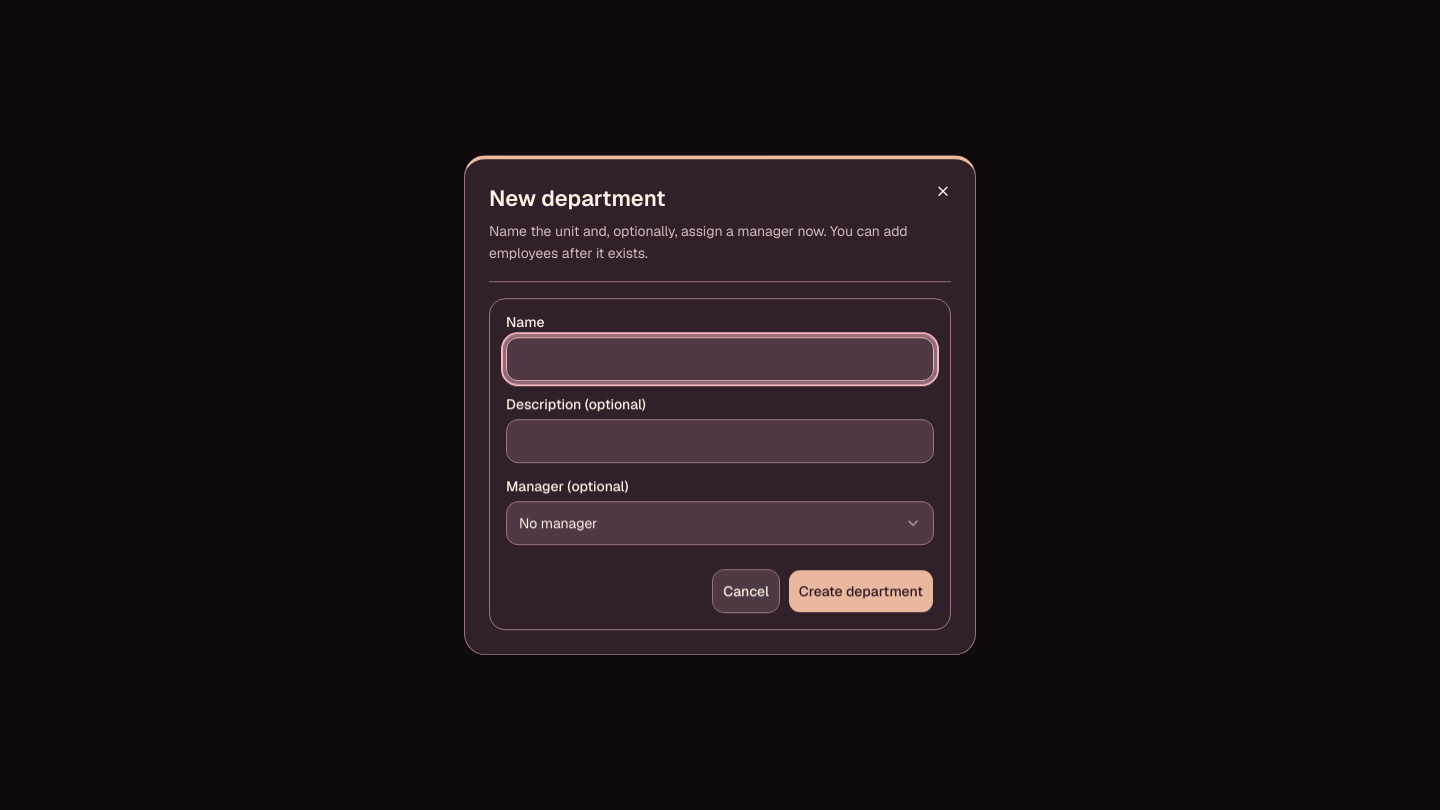
Scenario: CreateDepartmentDialog › shows a name-conflict error and keeps the typed value
Step 1. Type "Marketing" into the field labelled "Name" → (720, 359), box [506,337,934,381]
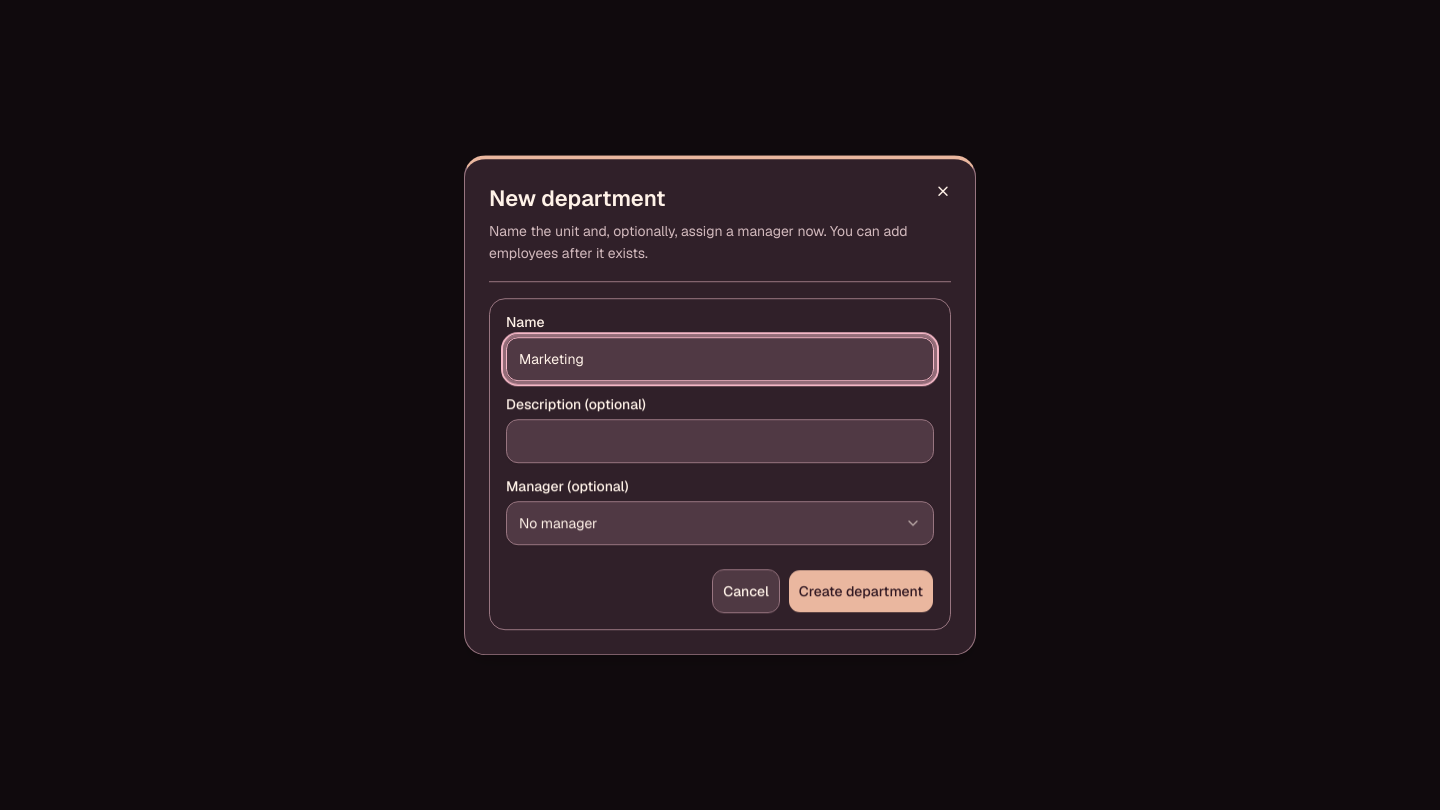
Step 2. Click the button "Create department" → (861, 591), box [788,569,934,613]
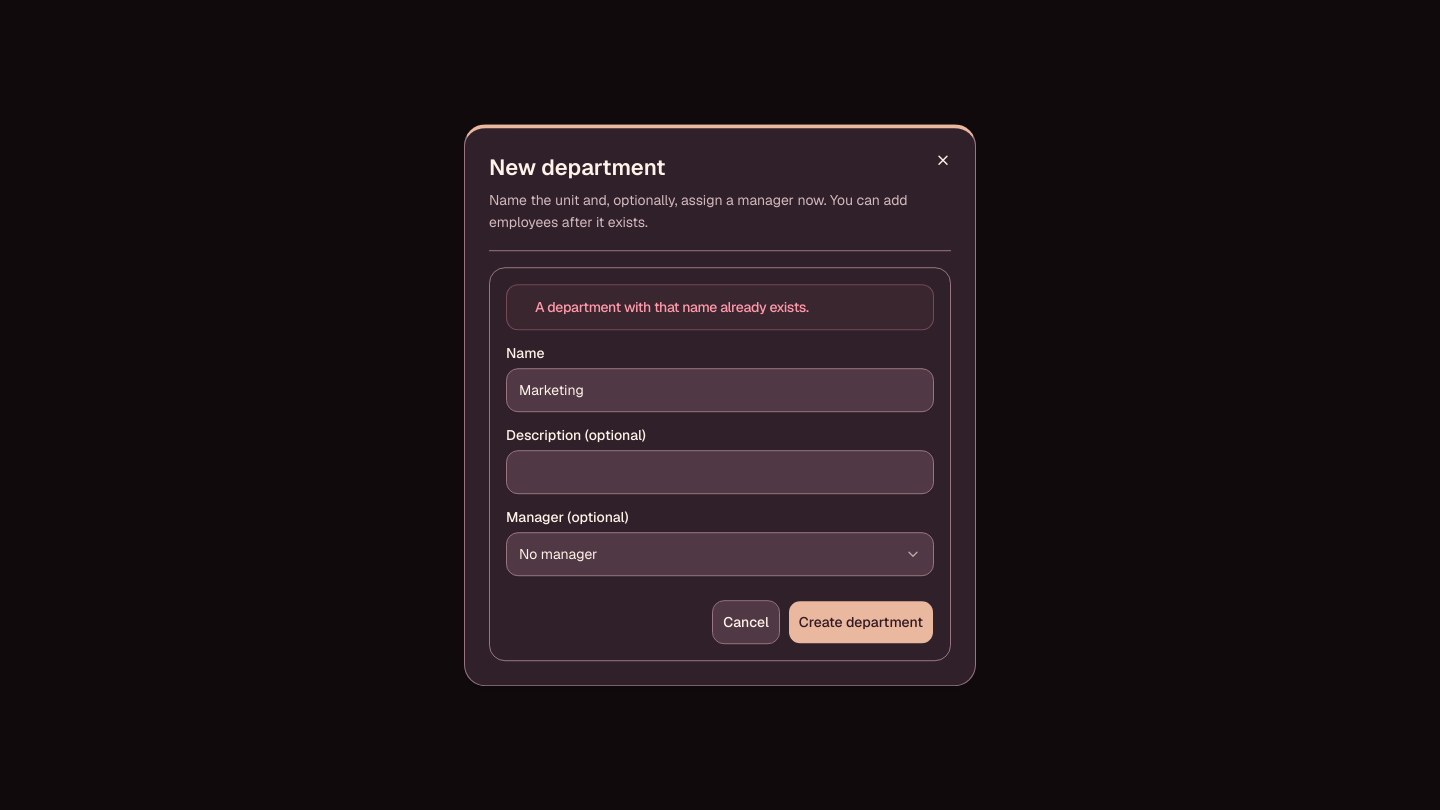
Expected: the text "A department with that name already exists." is shown, [535,298,809,316]
